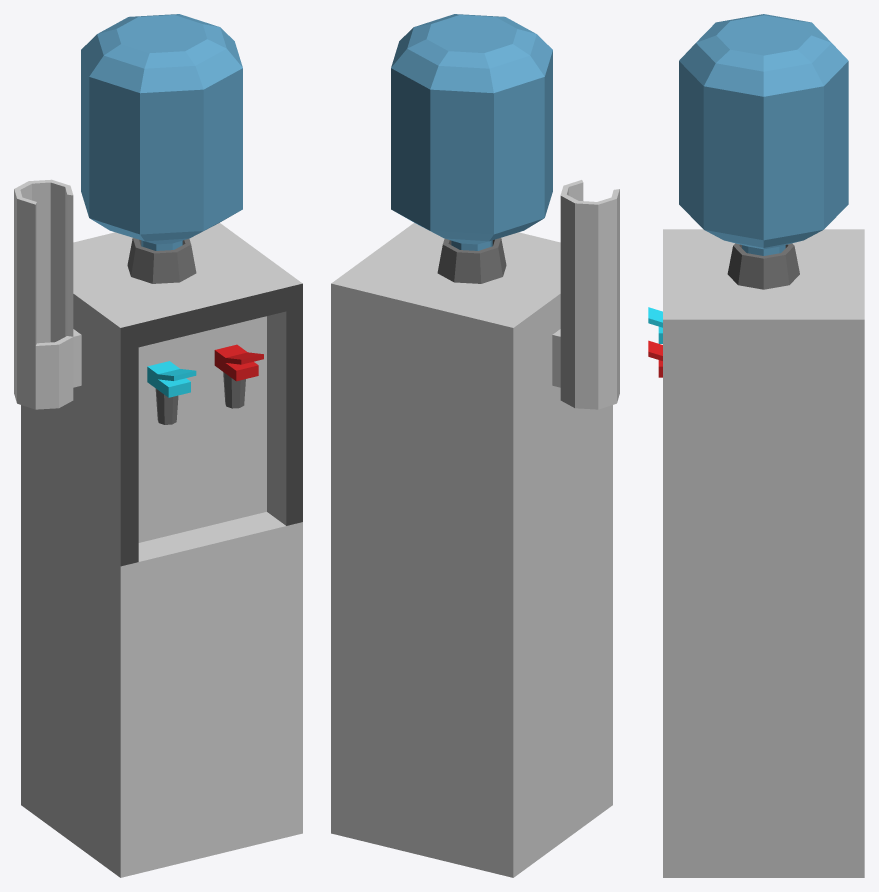
The model's file is Water Dispenser.fbx.
3 renders of one model, left to right at view 1: azimuth 30°, elevation 25°; view 2: azimuth 150°, elevation 25°; view 3: azimuth 270°, elevation 25°, orthographic.
Parts seen in each view (by area): view 1: Water Dispenser, Water Canister; view 2: Water Dispenser, Water Canister; view 3: Water Dispenser, Water Canister.
Part boxes in pixels (x1=…): Water Dispenser: x1=14, y1=179, x2=302, y2=877; Water Canister: x1=81, y1=14, x2=242, y2=250; Water Dispenser: x1=331, y1=180, x2=619, y2=877; Water Canister: x1=391, y1=14, x2=552, y2=250; Water Dispenser: x1=648, y1=229, x2=864, y2=877; Water Canister: x1=679, y1=14, x2=848, y2=255.
Size of the model in its own units: 1692 by 5379 by 1324.
